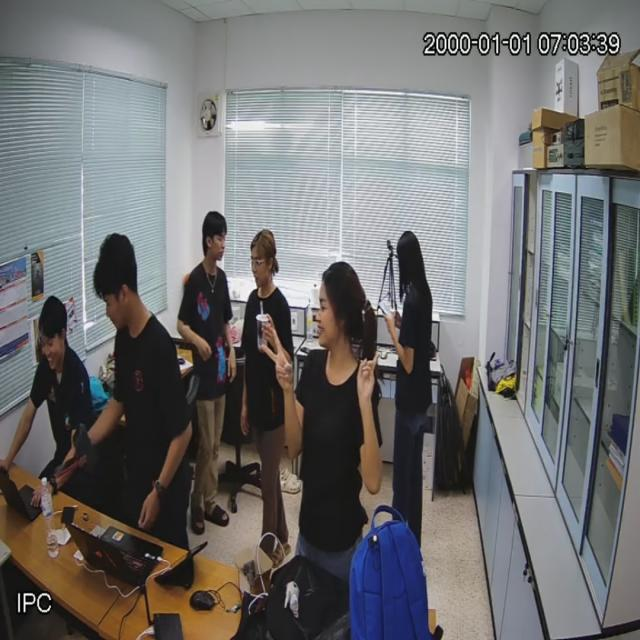normal: (86, 242, 186, 542), (290, 261, 379, 563), (16, 292, 96, 496), (184, 213, 236, 524), (245, 232, 287, 552), (396, 232, 432, 538)
